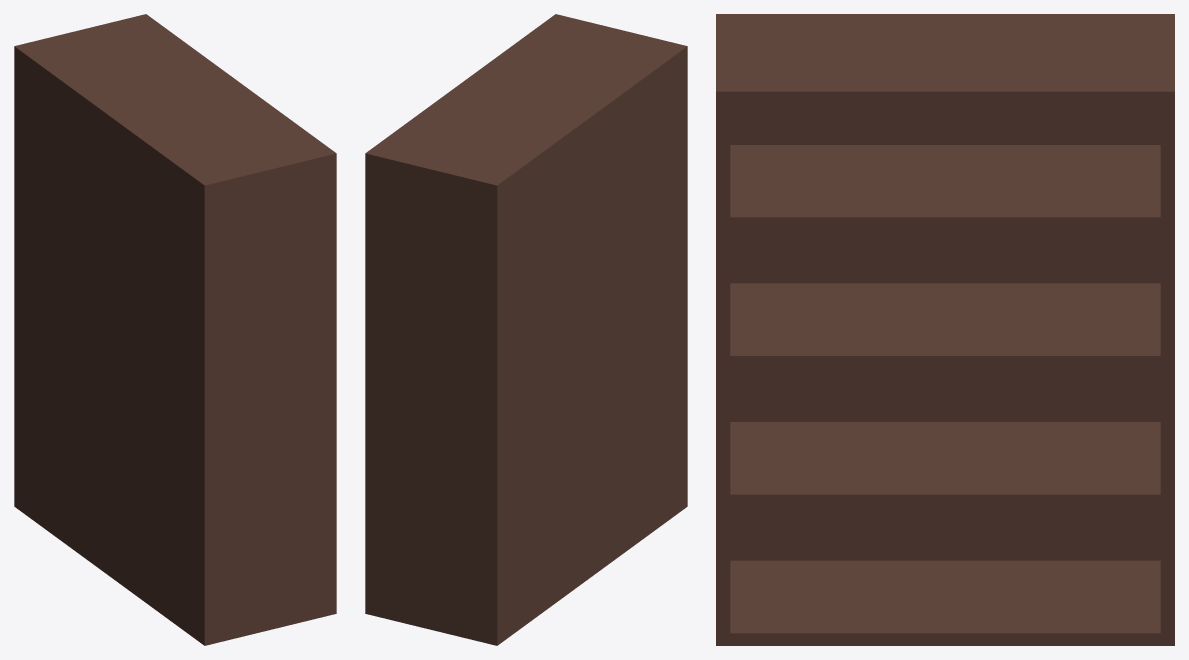
Rendered from libreroShoyos.fbx.
3 renders of one model, left to right at view 1: azimuth 30°, elevation 25°; view 2: azimuth 150°, elevation 25°; view 3: azimuth 270°, elevation 25°, orthographic. The views are drawn at different scales.
Visible parts, largest first — view 1: Cube.001; view 2: Cube.001; view 3: Cube.001.
Boxes of the visible parts, left/top/right/bottom form: Cube.001: left=14, top=14, right=336, bottom=645; Cube.001: left=365, top=14, right=687, bottom=645; Cube.001: left=716, top=14, right=1174, bottom=645.
Bounding box in the file's own units: 120 × 400 × 300.
